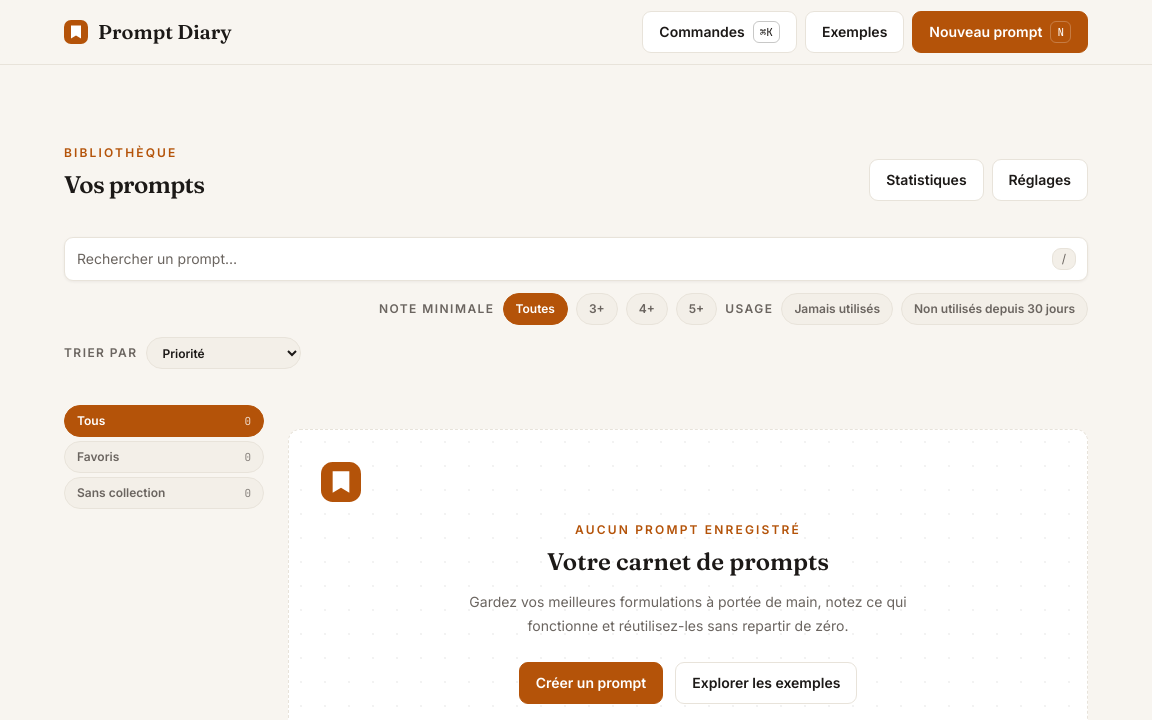
Test: Prompt Diary prompt library › explains that statistics need prompts
Expected: the text "Aucun prompt enregistré" is shown, 575,522 -> 801,537
Click the button "Statistiques". click: x=926, y=180
box: 869,159 -> 984,201
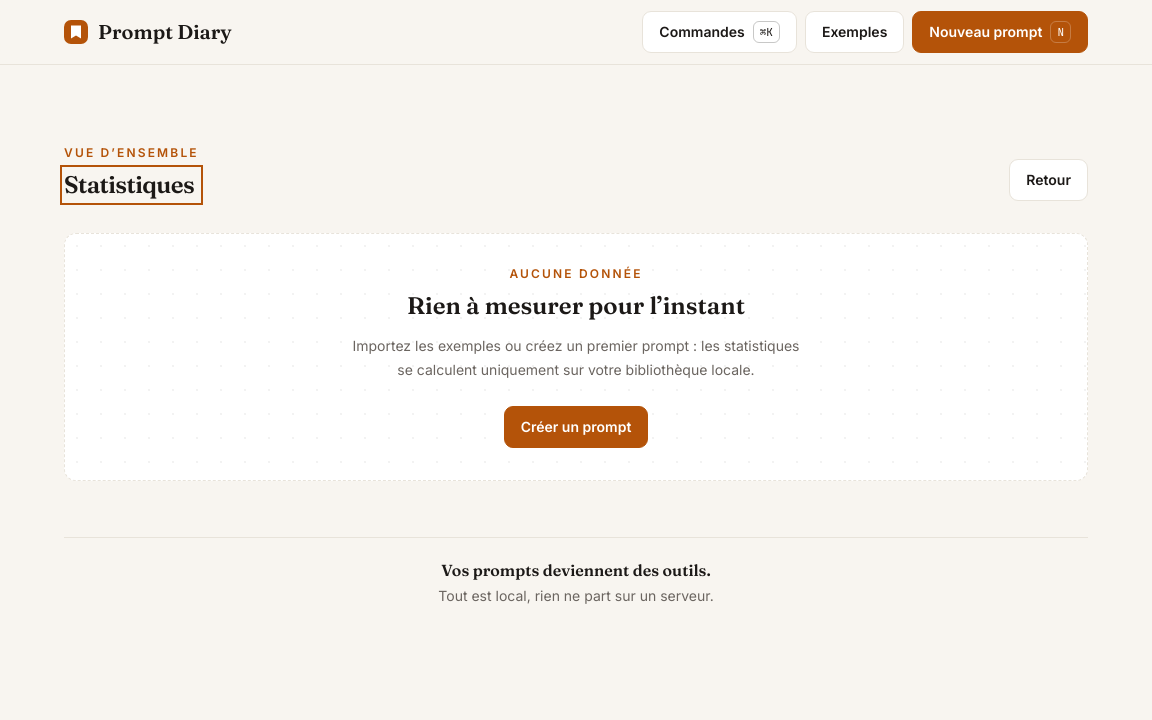
Now the heading "Rien à mesurer pour l’instant" is shown, box 407,291 -> 745,320
